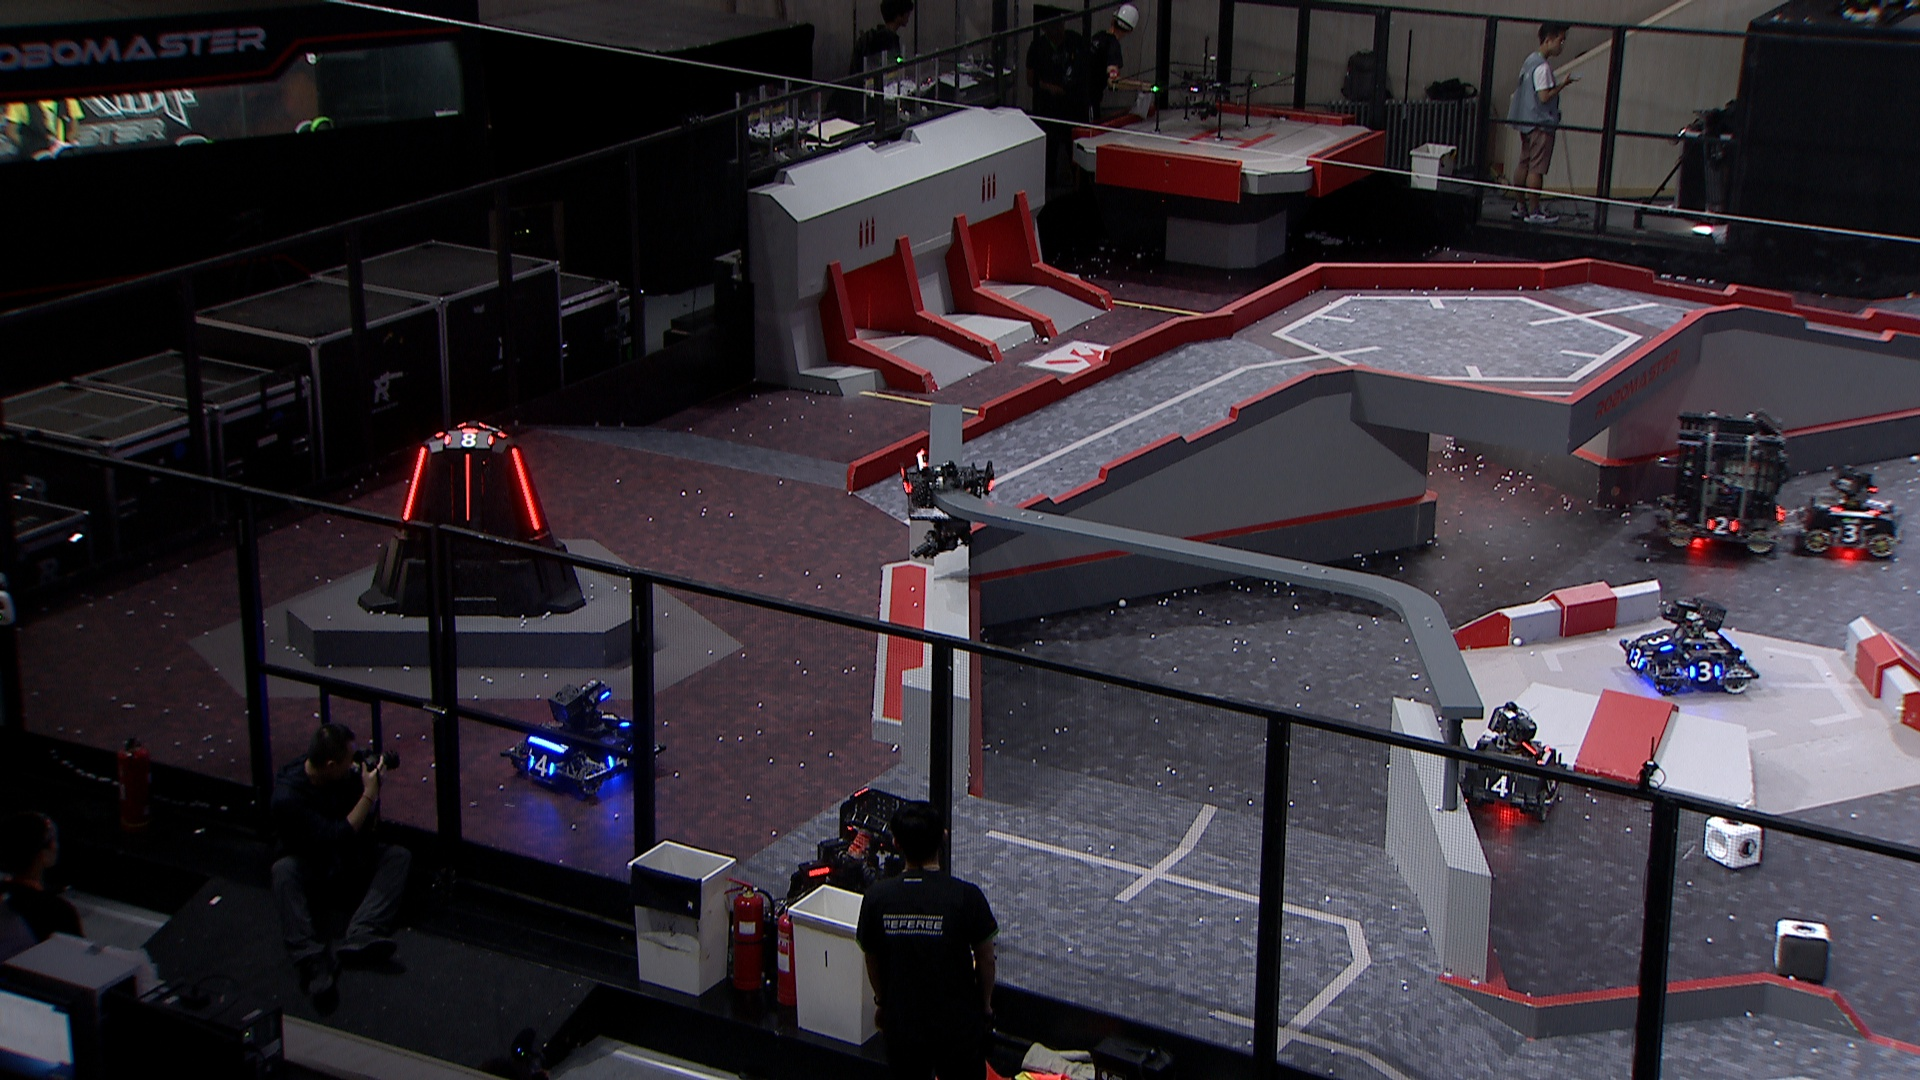armor: (508, 447, 543, 531), (400, 446, 429, 522), (442, 429, 495, 451), (462, 451, 475, 524), (1482, 773, 1519, 798), (1705, 513, 1741, 537), (527, 752, 556, 779), (1688, 661, 1724, 683), (1647, 628, 1673, 655), (1836, 524, 1866, 543), (600, 712, 632, 731), (1625, 646, 1648, 669), (608, 754, 632, 773), (899, 465, 913, 495), (1865, 496, 1888, 512)
base: (359, 423, 589, 617)
car: (774, 789, 957, 960), (1654, 410, 1792, 559), (496, 676, 662, 796), (1619, 593, 1760, 698), (1456, 704, 1571, 825), (1797, 465, 1904, 562)
watcher: (898, 447, 994, 560)
